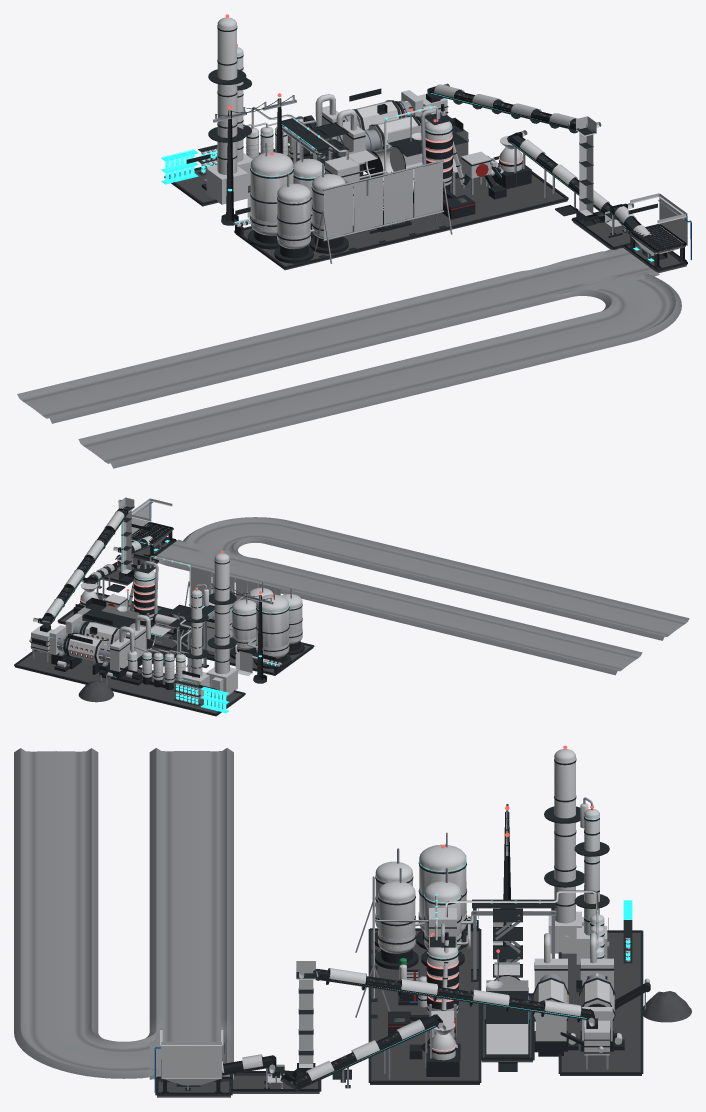
The model's file is refinery_4a70acf.glb.
3 views of the same model, one above another, from view 1: azimuth 30°, elevation 25°; view 2: azimuth 150°, elevation 25°; view 3: azimuth 270°, elevation 25° (orthographic). The views are drawn at different scales.
Visible parts, largest first — view 1: Base_Paint, Tier_12, Tier_20, Tier_08, Tier_03; view 2: Base_Paint, Tier_12, Tier_08, Tier_20, Base_GlowCyan, Tier_03, Kiln_Drum, Intake_Grate; view 3: Base_Paint, Tier_12, Tier_20, Tier_08, Base_GlowCyan, Tier_05.
Part boxes in pixels (left/top/right/bottom): Base_Paint: left=17, top=47, right=691, bottom=468; Tier_12: left=206, top=17, right=247, bottom=204; Tier_20: left=274, top=163, right=348, bottom=263; Tier_08: left=336, top=105, right=435, bottom=175; Tier_03: left=161, top=149, right=198, bottom=184; Base_Paint: left=14, top=497, right=689, bottom=716; Tier_12: left=206, top=553, right=237, bottom=696; Tier_08: left=65, top=613, right=150, bottom=666; Tier_20: left=248, top=582, right=304, bottom=655; Base_GlowCyan: left=50, top=520, right=289, bottom=703; Tier_03: left=201, top=687, right=228, bottom=713; Kiln_Drum: left=56, top=633, right=111, bottom=662; Intake_Grate: left=131, top=523, right=170, bottom=542; Base_Paint: left=14, top=748, right=691, bottom=1097; Tier_12: left=544, top=749, right=584, bottom=953; Tier_20: left=375, top=848, right=424, bottom=969; Tier_08: left=533, top=933, right=583, bottom=1056; Base_GlowCyan: left=326, top=815, right=630, bottom=1075; Tier_05: left=398, top=958, right=419, bottom=1005.
Size of the model in its own units: 54.47 by 14.91 by 45.02.
